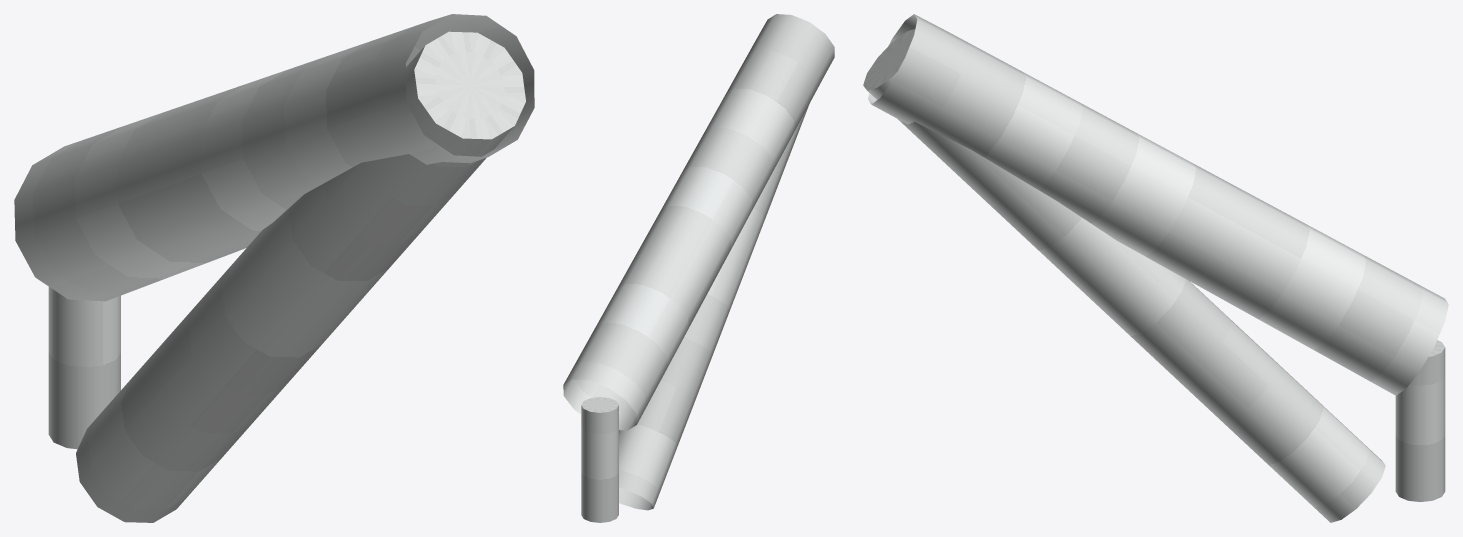
Rendered from luminairearm_truss8ftstraightdouble_c11.obj.
The picture shows the model from 3 angles, left to right: view 1: azimuth 30°, elevation 25°; view 2: azimuth 150°, elevation 25°; view 3: azimuth 270°, elevation 25°; orthographic projection. The views are drawn at different scales.
Parts seen in each view (by area): view 1: luminairearm_truss8ftstraightdouble_c11; view 2: luminairearm_truss8ftstraightdouble_c11; view 3: luminairearm_truss8ftstraightdouble_c11.
Boxes of the visible parts, left/top/right/bottom form: luminairearm_truss8ftstraightdouble_c11: left=14, top=14, right=534, bottom=522; luminairearm_truss8ftstraightdouble_c11: left=563, top=14, right=834, bottom=522; luminairearm_truss8ftstraightdouble_c11: left=863, top=14, right=1448, bottom=522.
Size of the model in its own units: 0.2083 by 1.04 by 1.11.
